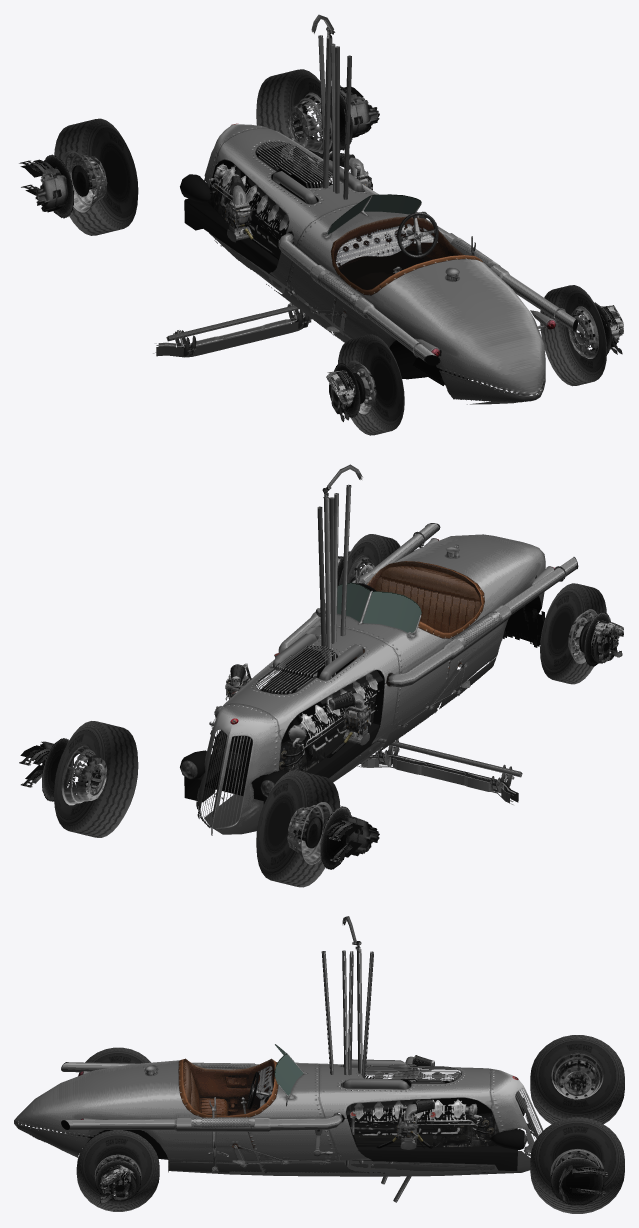
Rendered from GT4_JAY_0001.glb.
3 views of the same model, one above another, from view 1: azimuth 30°, elevation 25°; view 2: azimuth 150°, elevation 25°; view 3: azimuth 270°, elevation 25° (orthographic). The views are drawn at different scales.
Visible parts, largest first — view 1: body, tire_rear_right, tire_front_right, tire_front_left, tire_rear_left, wheel_rear_left, wheel_rear_right, wheel_front_left, wheel_front_right; view 2: body, tire_rear_left, tire_rear_right, tire_front_right, wheel_rear_left, wheel_rear_right, tire_front_left, wheel_front_right; view 3: body, tire_rear_right, tire_rear_left, tire_front_left, wheel_rear_right, tire_front_right, wheel_rear_left.
Boxes of the visible parts, left/top/right/bottom form: body: left=19, top=14, right=623, bottom=421; tire_rear_right: left=54, top=118, right=138, bottom=235; tire_front_right: left=338, top=334, right=404, bottom=435; tire_front_left: left=540, top=285, right=606, bottom=386; tire_rear_left: left=256, top=69, right=340, bottom=177; wheel_rear_left: left=287, top=92, right=332, bottom=153; wheel_rear_right: left=62, top=150, right=107, bottom=213; wheel_front_left: left=568, top=306, right=598, bottom=358; wheel_front_right: left=347, top=360, right=376, bottom=415; body: left=19, top=464, right=623, bottom=869; tire_rear_left: left=54, top=721, right=138, bottom=837; tire_rear_right: left=256, top=770, right=340, bottom=887; tire_front_right: left=540, top=583, right=606, bottom=684; wheel_rear_left: left=61, top=744, right=107, bottom=805; wheel_rear_right: left=287, top=802, right=332, bottom=864; tire_front_left: left=339, top=534, right=400, bottom=584; wheel_front_right: left=568, top=609, right=597, bottom=664; body: left=14, top=916, right=607, bottom=1205; tire_rear_right: left=530, top=1035, right=624, bottom=1124; tire_rear_left: left=530, top=1117, right=624, bottom=1213; tire_front_left: left=76, top=1130, right=159, bottom=1211; wheel_rear_right: left=551, top=1051, right=603, bottom=1099; tire_front_right: left=78, top=1047, right=150, bottom=1076; wheel_rear_left: left=550, top=1148, right=604, bottom=1175.
Bounding box in the file's own units: 3.6 × 3.25 × 6.45.
Materials: 73 (73 with a texture image).
